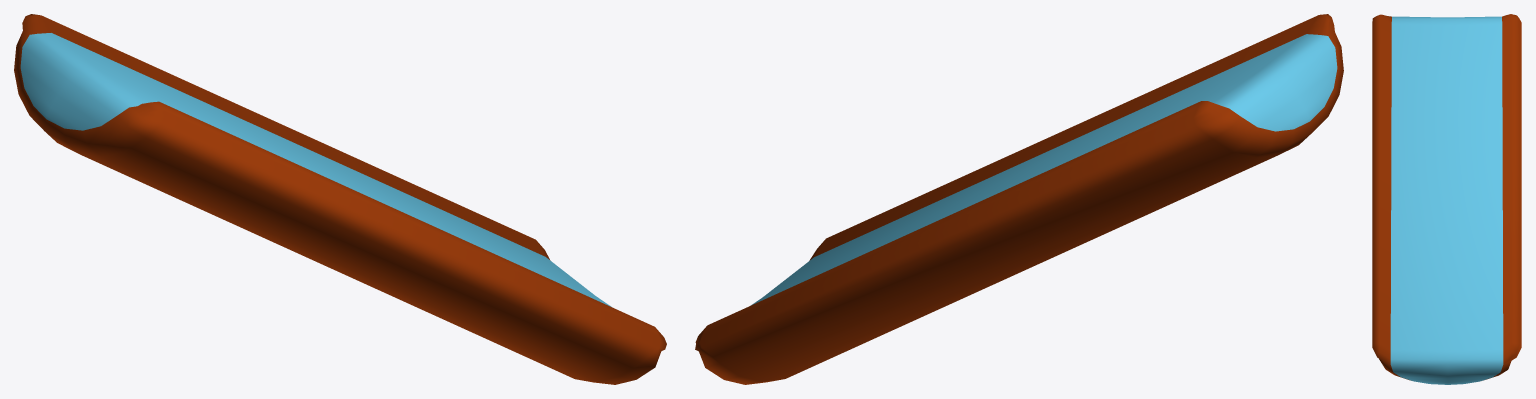
The model's file is Sliding.fbx.
The picture shows the model from 3 angles, left to right: view 1: azimuth 30°, elevation 25°; view 2: azimuth 150°, elevation 25°; view 3: azimuth 270°, elevation 25°; orthographic projection. The views are drawn at different scales.
Parts seen in each view (by area): view 1: Sliding1; view 2: Sliding1; view 3: Sliding1.
Boxes of the visible parts, x1,y1,x2,y2 form: Sliding1: (14, 14, 666, 384); Sliding1: (695, 14, 1343, 384); Sliding1: (1372, 14, 1521, 384).
Bounding box in the file's own units: 9.52 × 6.98 × 3.94.
